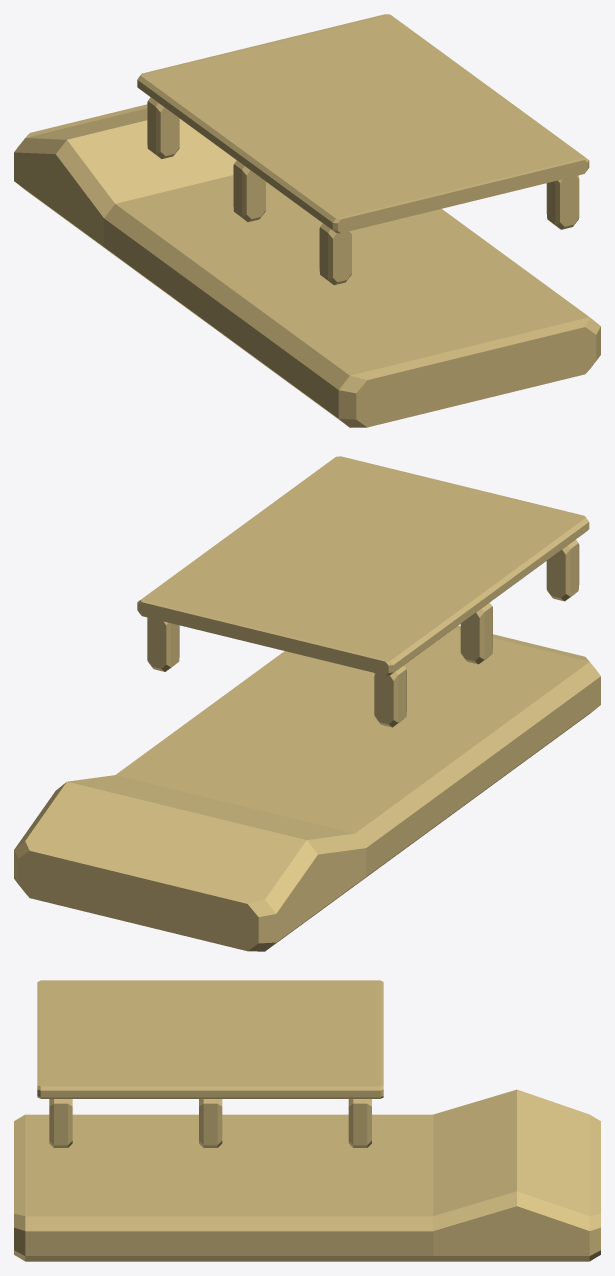
File: tallow_transport_d.glb
3 renders of one model, top to bottom at view 1: azimuth 30°, elevation 25°; view 2: azimuth 150°, elevation 25°; view 3: azimuth 270°, elevation 25°, orthographic. The views are drawn at different scales.
Parts seen in each view (by area): view 1: tallow_transport_d; view 2: tallow_transport_d; view 3: tallow_transport_d.
Boxes of the visible parts, left/top/right/bottom form: tallow_transport_d: left=14, top=14, right=600, bottom=427; tallow_transport_d: left=14, top=456, right=600, bottom=951; tallow_transport_d: left=14, top=980, right=600, bottom=1261.
Size of the model in its own units: 3.9 by 2.9 by 8.7.
